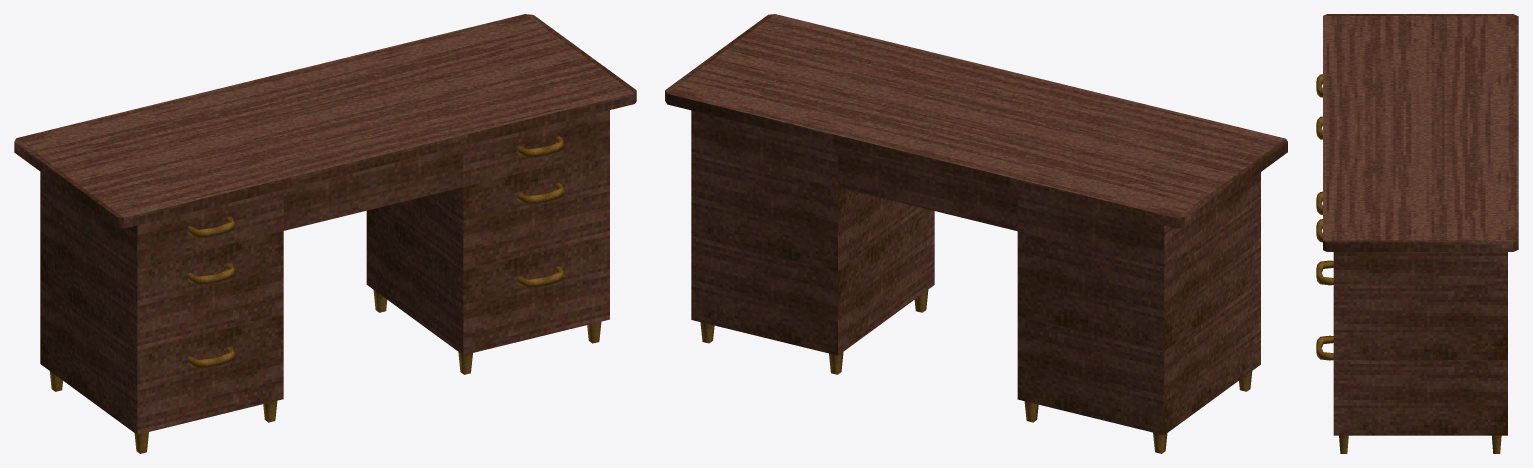
Rendered from Desk.glb.
The picture shows the model from 3 angles, left to right: view 1: azimuth 30°, elevation 25°; view 2: azimuth 150°, elevation 25°; view 3: azimuth 270°, elevation 25°; orthographic projection. The views are drawn at different scales.
Visible parts, largest first — view 1: Desk; view 2: Desk; view 3: Desk.
Boxes of the visible parts, x1=… form: Desk: x1=14, y1=14, x2=636, y2=453; Desk: x1=665, y1=14, x2=1287, y2=453; Desk: x1=1316, y1=14, x2=1518, y2=453.
Bounding box in the file's own units: 4.07 × 1.87 × 1.53.
Materials: 1 (1 with a texture image).
